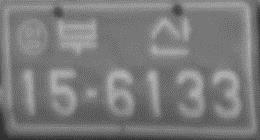-: (82, 83, 100, 104)
1: (141, 68, 166, 117), (20, 68, 41, 117)
3: (173, 68, 206, 120), (211, 68, 243, 120)
5: (47, 66, 79, 117)
6: (105, 67, 137, 117)
부산_D: (55, 13, 194, 58)
영: (16, 18, 49, 59)
